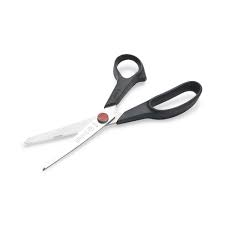tihiras: (19, 49, 205, 175)
